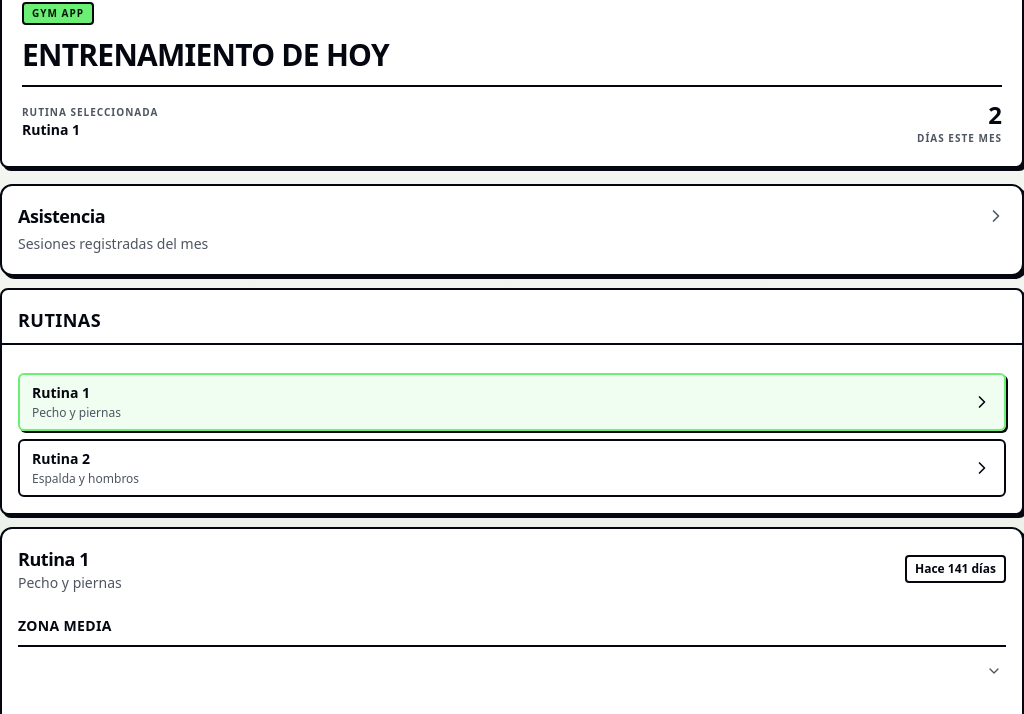
Scenario: WorkoutApp › scrolls to the routine card when selecting a different routine
Click the button "Rutina 2 Espalda y hombros". click: x=61, y=458
box: [18,439,1006,497]
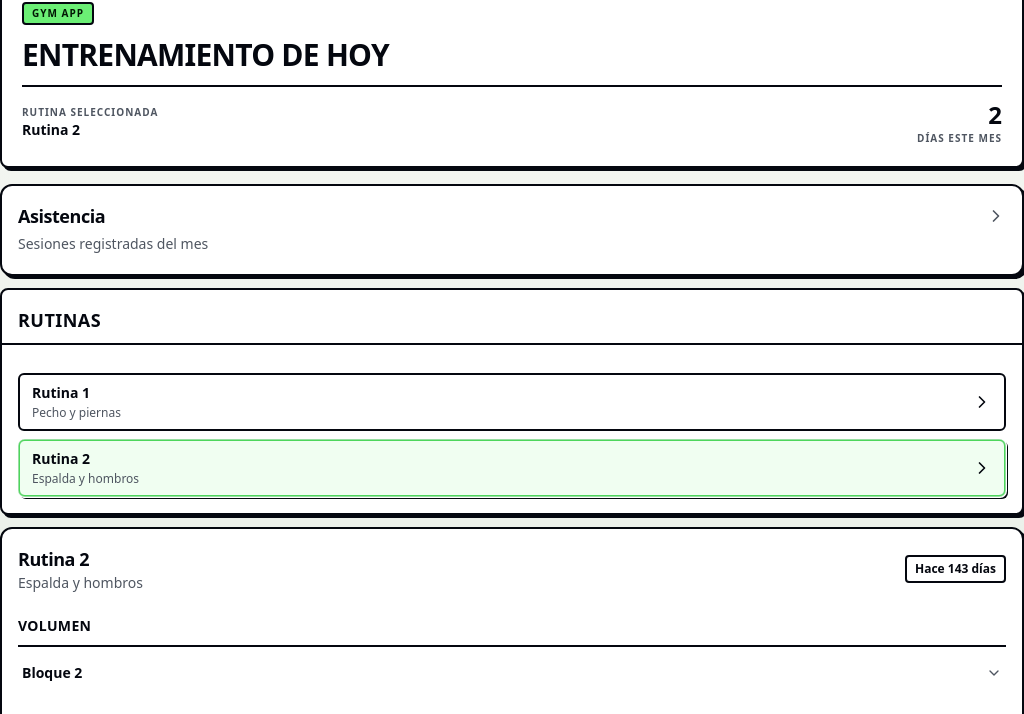
Click the button "Bloque 2". click: x=52, y=672
box: [18,655,1006,691]
(page scrolled)
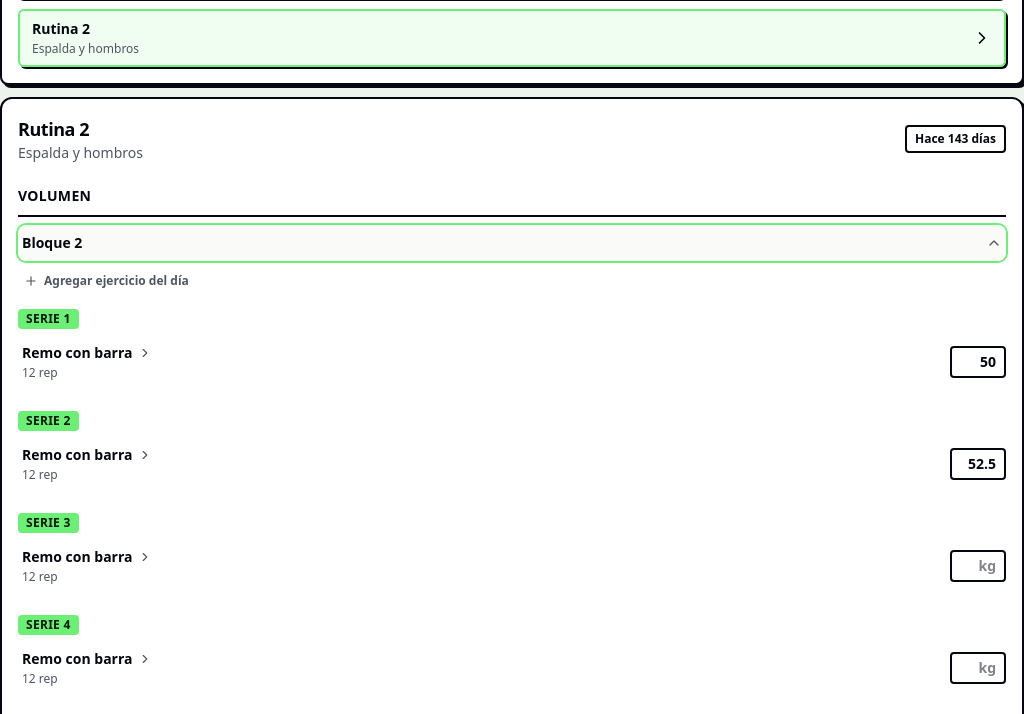
Expected: the text "Bloque 2" is shown, [22,233,82,253]
Expected: the field named "Remo con barra serie 1" holds "50", [950,346,1006,378]
